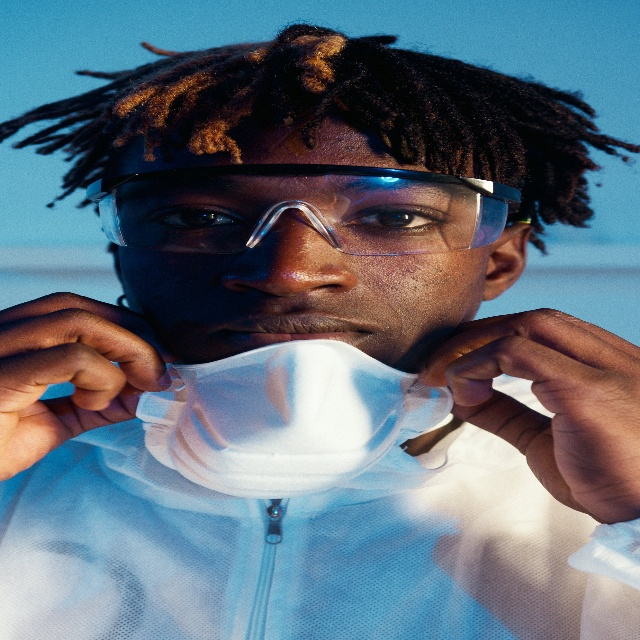Gafas: (86, 175, 519, 263)
Mascara: (134, 341, 452, 502)
Sin_guantes: (397, 307, 640, 519), (0, 318, 171, 480)
